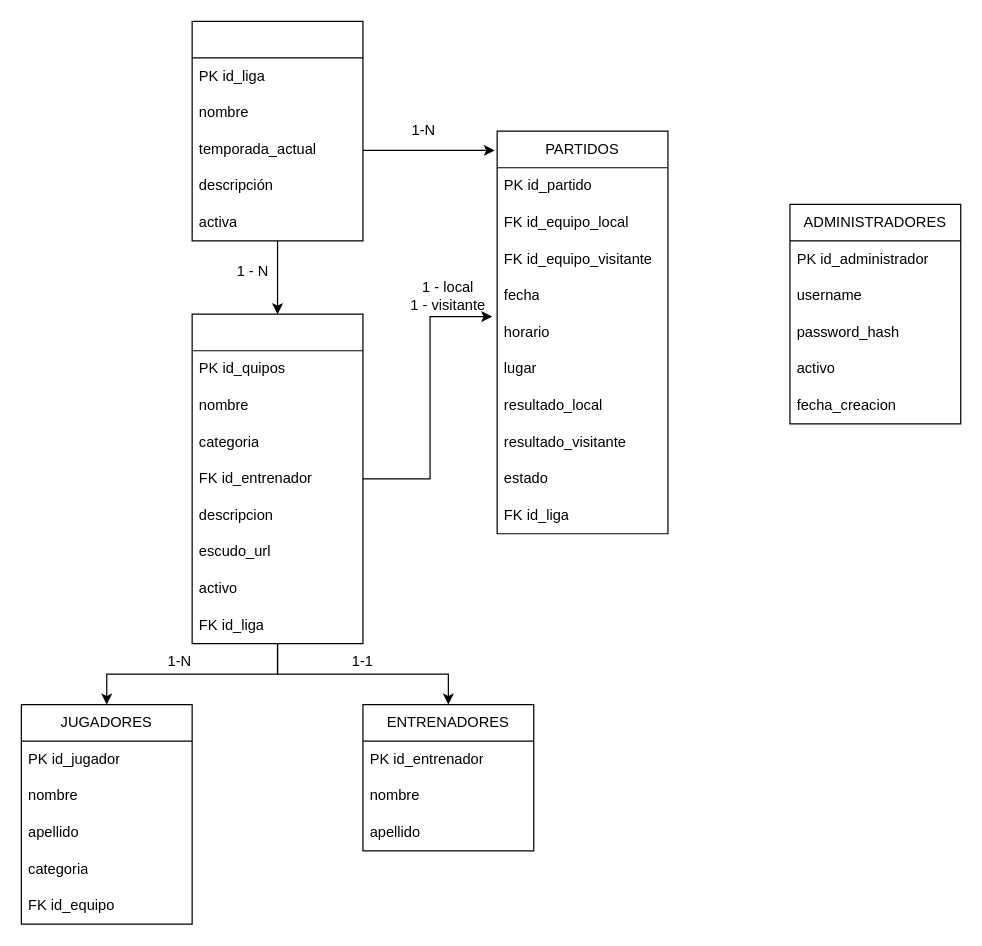
This 982x946 diagram has some shape labels left out. The box of each missing label's shape, as (x1, y1, x2, y2) in pixels:
EQUIPOS: (191, 313, 363, 644)
LIGAS: (191, 20, 363, 241)
